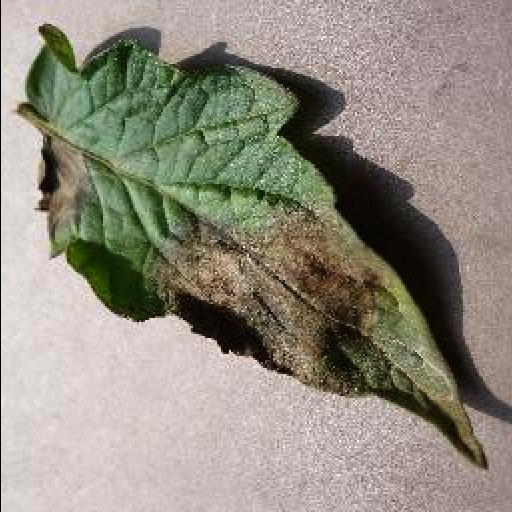disease_tomato: (18, 24, 486, 470)
